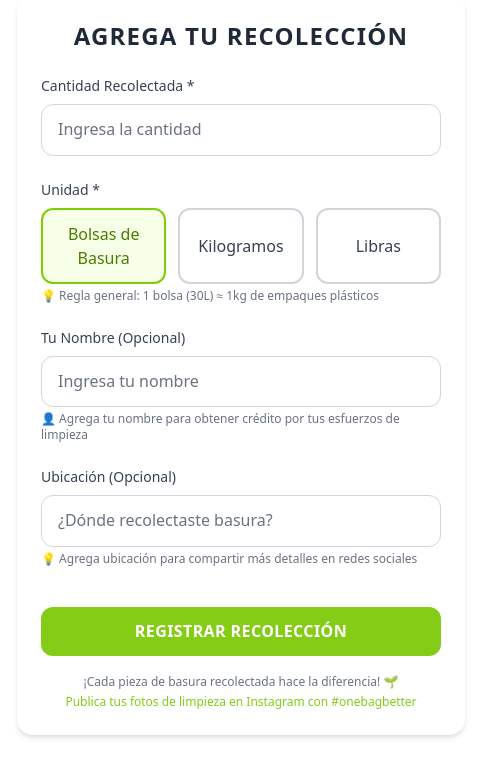
Test: CollectionEntryForm › should display Spanish validation errors
// Try to submit without entering amount
Click the button "Registrar Recolección" at (241, 632), box x1=41 y1=607 x2=441 y2=656
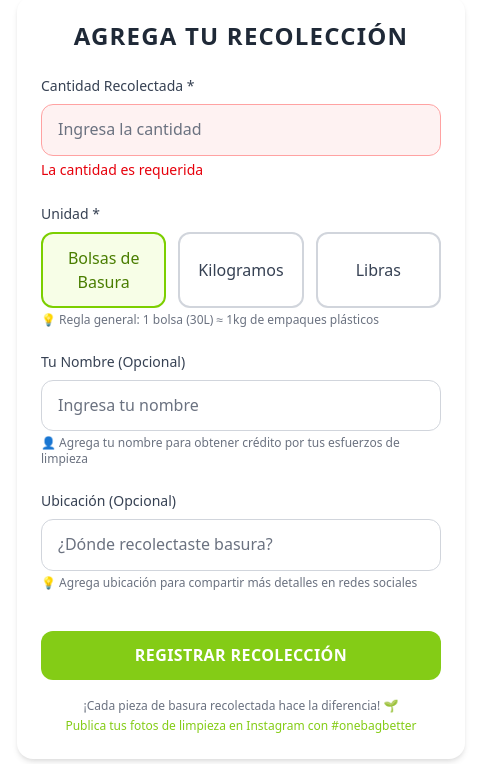
Check: the text "La cantidad es requerida" is shown, box x1=41 y1=160 x2=203 y2=179
